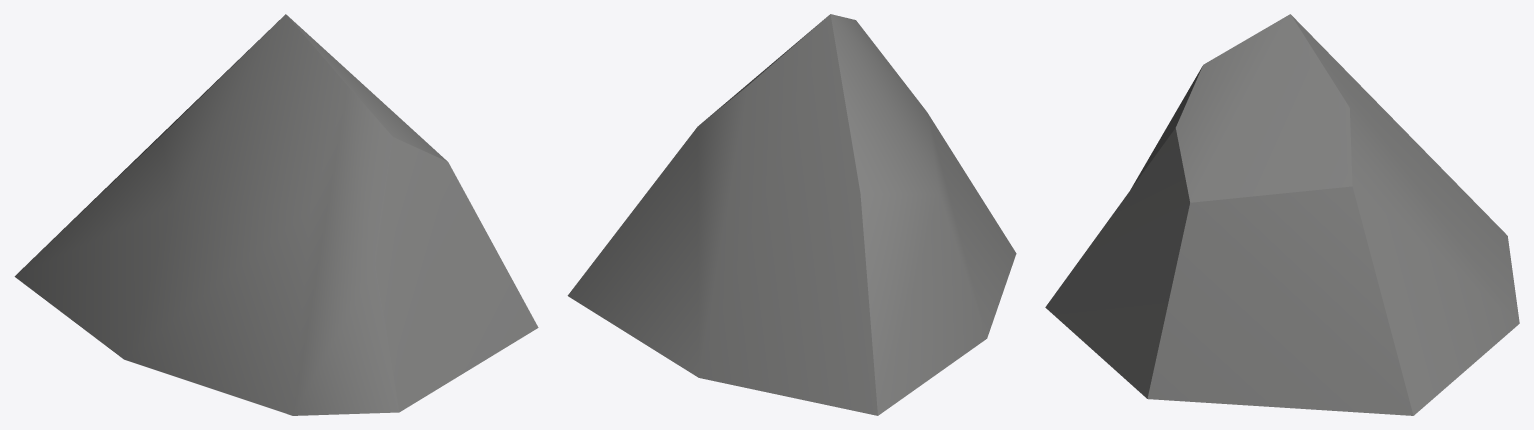
The model's file is rock1.fbx.
3 views of the same model, side by side, from view 1: azimuth 30°, elevation 25°; view 2: azimuth 150°, elevation 25°; view 3: azimuth 270°, elevation 25° (orthographic). The views are drawn at different scales.
Visible parts, largest first — view 1: pCube1; view 2: pCube1; view 3: pCube1.
Boxes of the visible parts, x1,y1,x2,y2 form: pCube1: [14, 14, 538, 415]; pCube1: [567, 14, 1016, 415]; pCube1: [1045, 14, 1519, 415].
Bounding box in the file's own units: 1.61 × 1.24 × 1.78.
Materials: 1 (1 with a texture image).
